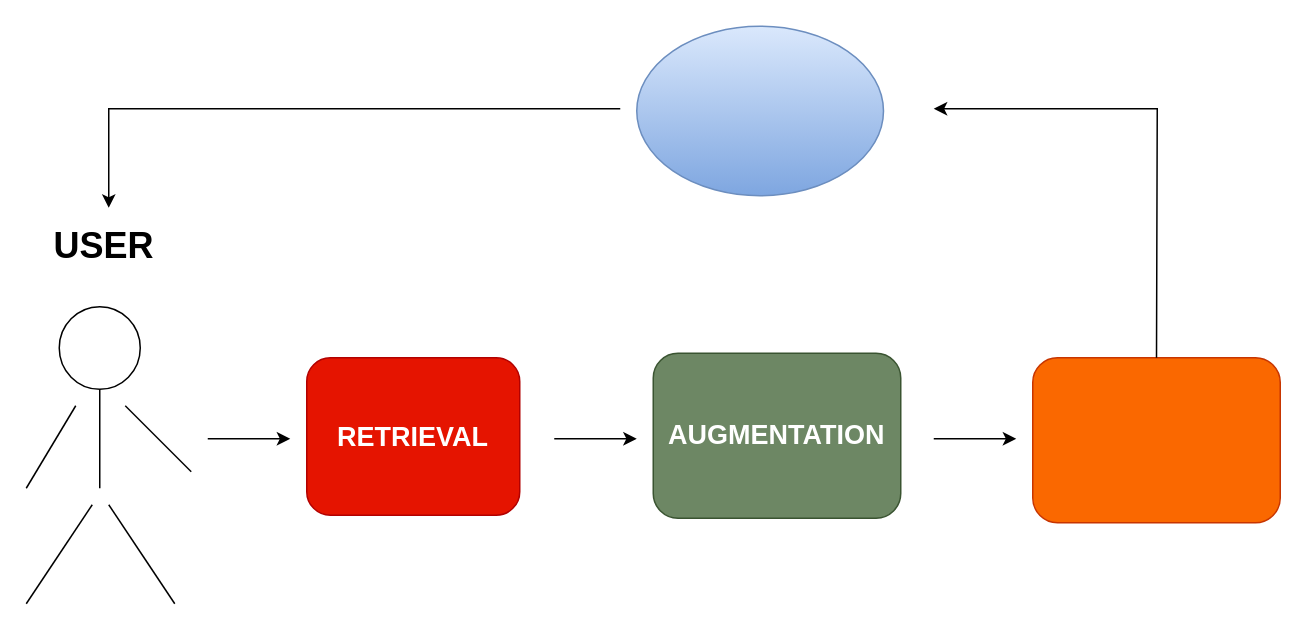
Image size: 1307x632. Some labels were removed from this diagram. Here are the shapes that lost their labels. From the top down, the centre of each, then its label:
At (759,110): "RESPONSE".
At (1155,439): "GENERATION".
